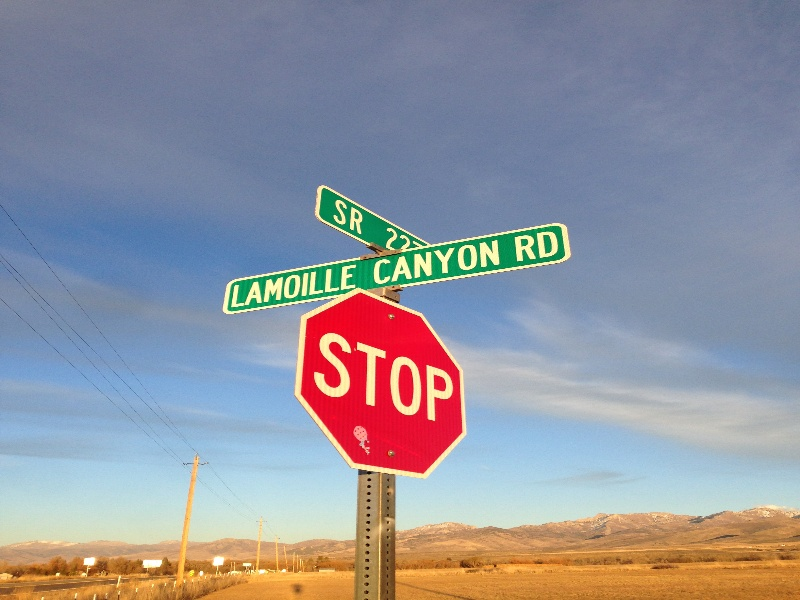stop sign: (294, 285, 472, 480)
